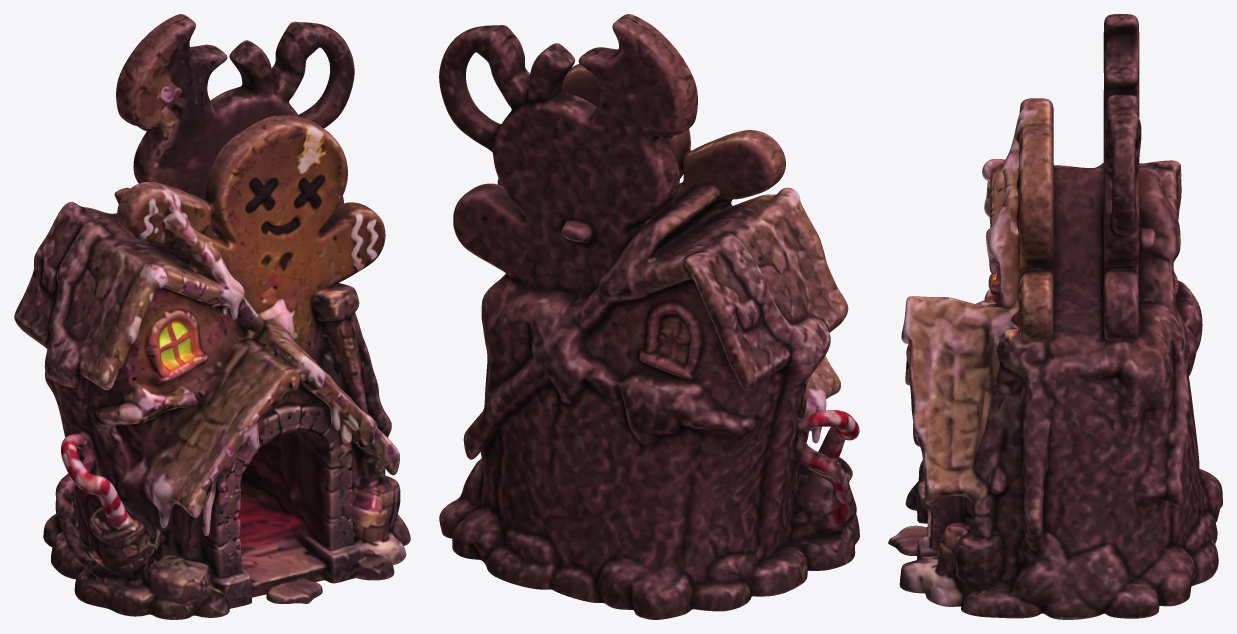
File: Meshy_AI_Haunted_Gingerbread_House_20261104_texture.fbx
3 renders of one model, left to right at view 1: azimuth 30°, elevation 25°; view 2: azimuth 150°, elevation 25°; view 3: azimuth 270°, elevation 25°, orthographic. The views are drawn at different scales.
Visible parts, largest first — view 1: Mesh_0; view 2: Mesh_0; view 3: Mesh_0.
Boxes of the visible parts, left/top/right/bottom form: Mesh_0: left=14, top=14, right=410, bottom=619; Mesh_0: left=439, top=14, right=859, bottom=619; Mesh_0: left=888, top=14, right=1222, bottom=619.
Size of the model in its own units: 132 by 190 by 111.
Materials: 1 (1 with a texture image).
